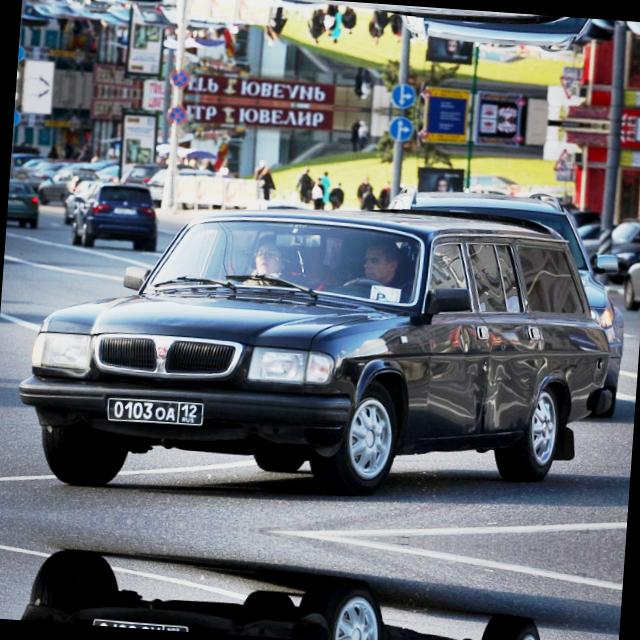military: (104, 391, 205, 426), (90, 616, 188, 632)
